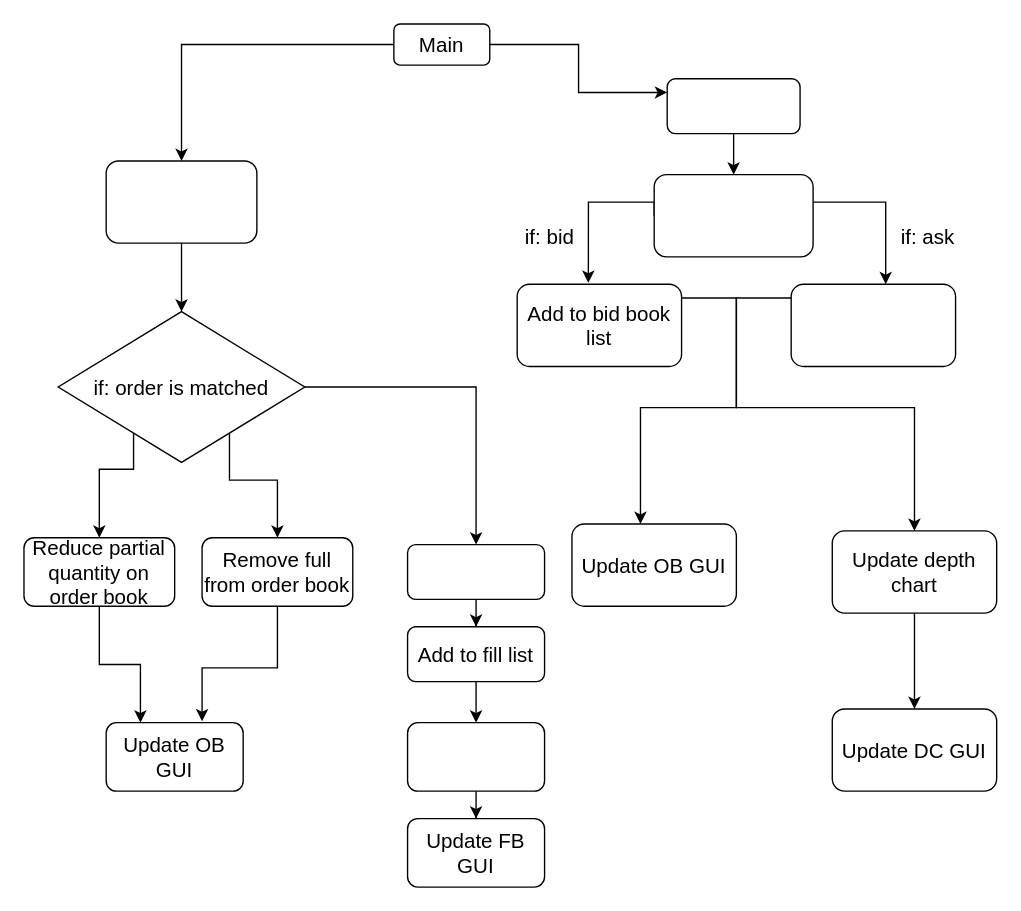
Some shapes in this 1021 by 911 pixel diagram are drawn without their labels. Each missing label, with the centre of its shape:
Add to ask book list: (873,324)
Add to fill book: (475,756)
Create tx dict: (475,571)
Generate order: (733,215)
While make orders = true: (733,105)
While order book is not empty: (181,201)
